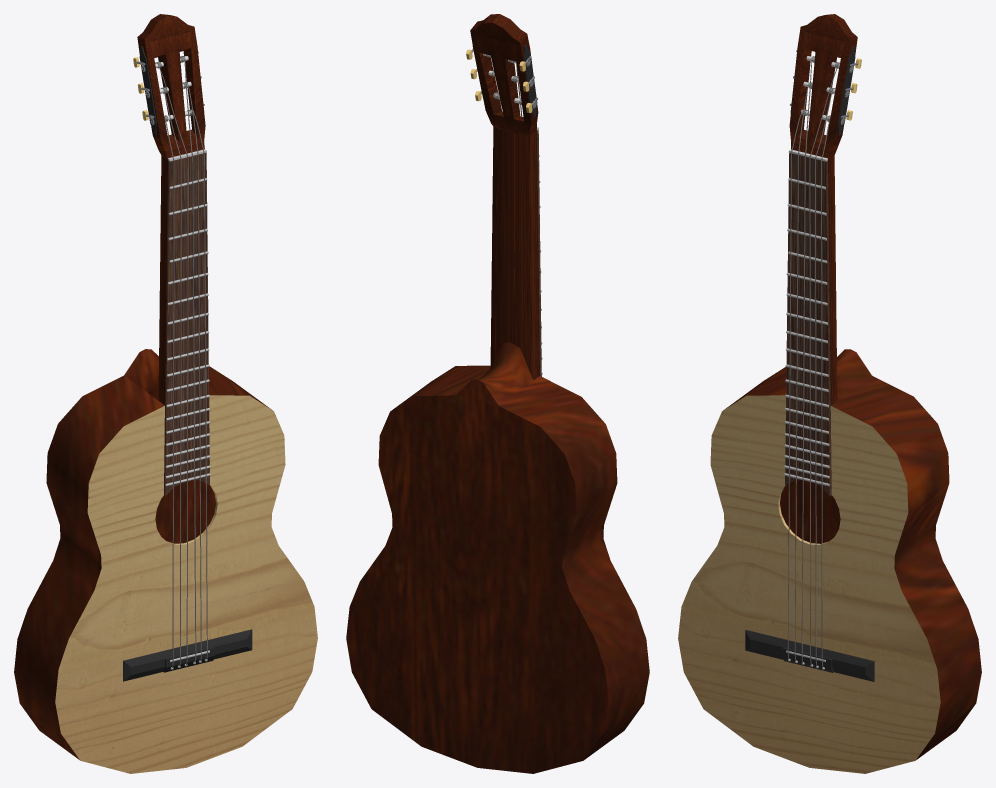
The model's file is guitarra_2.0.glb.
3 views of the same model, side by side, from view 1: azimuth 30°, elevation 25°; view 2: azimuth 150°, elevation 25°; view 3: azimuth 330°, elevation 25° (orthographic).
Visible parts, largest first — view 1: polySurface2, pCube1, pPlane4, pCube21, polySurface4, polySurface12, polySurface13, polySurface11, polySurface9, pCylinder22, pCylinder20, pPlane10; view 2: polySurface2, polySurface4, pPlane4, pCube1; view 3: polySurface2, pCube1, pPlane4, pCube21, polySurface4, polySurface11, pCylinder22, polySurface13, polySurface9, polySurface12, pCylinder20.
Boxes of the visible parts, x1,y1,x2,y2 form: polySurface2: [14, 349, 317, 773]; pCube1: [164, 152, 209, 496]; pPlane4: [137, 14, 205, 159]; pCube21: [123, 629, 252, 681]; polySurface4: [158, 155, 167, 404]; polySurface12: [180, 56, 196, 662]; polySurface13: [182, 82, 201, 661]; polySurface11: [155, 61, 188, 664]; polySurface9: [160, 87, 181, 666]; pCylinder22: [187, 109, 207, 659]; pCylinder20: [164, 115, 174, 667]; pPlane10: [139, 46, 156, 135]; polySurface2: [346, 342, 649, 773]; polySurface4: [490, 126, 539, 380]; pPlane4: [470, 14, 538, 135]; pCube1: [537, 130, 541, 376]; polySurface2: [678, 349, 981, 773]; pCube1: [785, 153, 831, 496]; pPlane4: [789, 14, 857, 159]; pCube21: [745, 630, 874, 681]; polySurface4: [828, 156, 837, 405]; polySurface11: [801, 56, 814, 663]; pCylinder22: [821, 115, 830, 667]; polySurface13: [815, 87, 835, 666]; polySurface9: [794, 82, 812, 661]; polySurface12: [809, 62, 839, 665]; pCylinder20: [787, 109, 807, 659].
Bounding box in the file's own units: 5.09 × 13.66 × 1.52.
9 materials, 3 textured.
